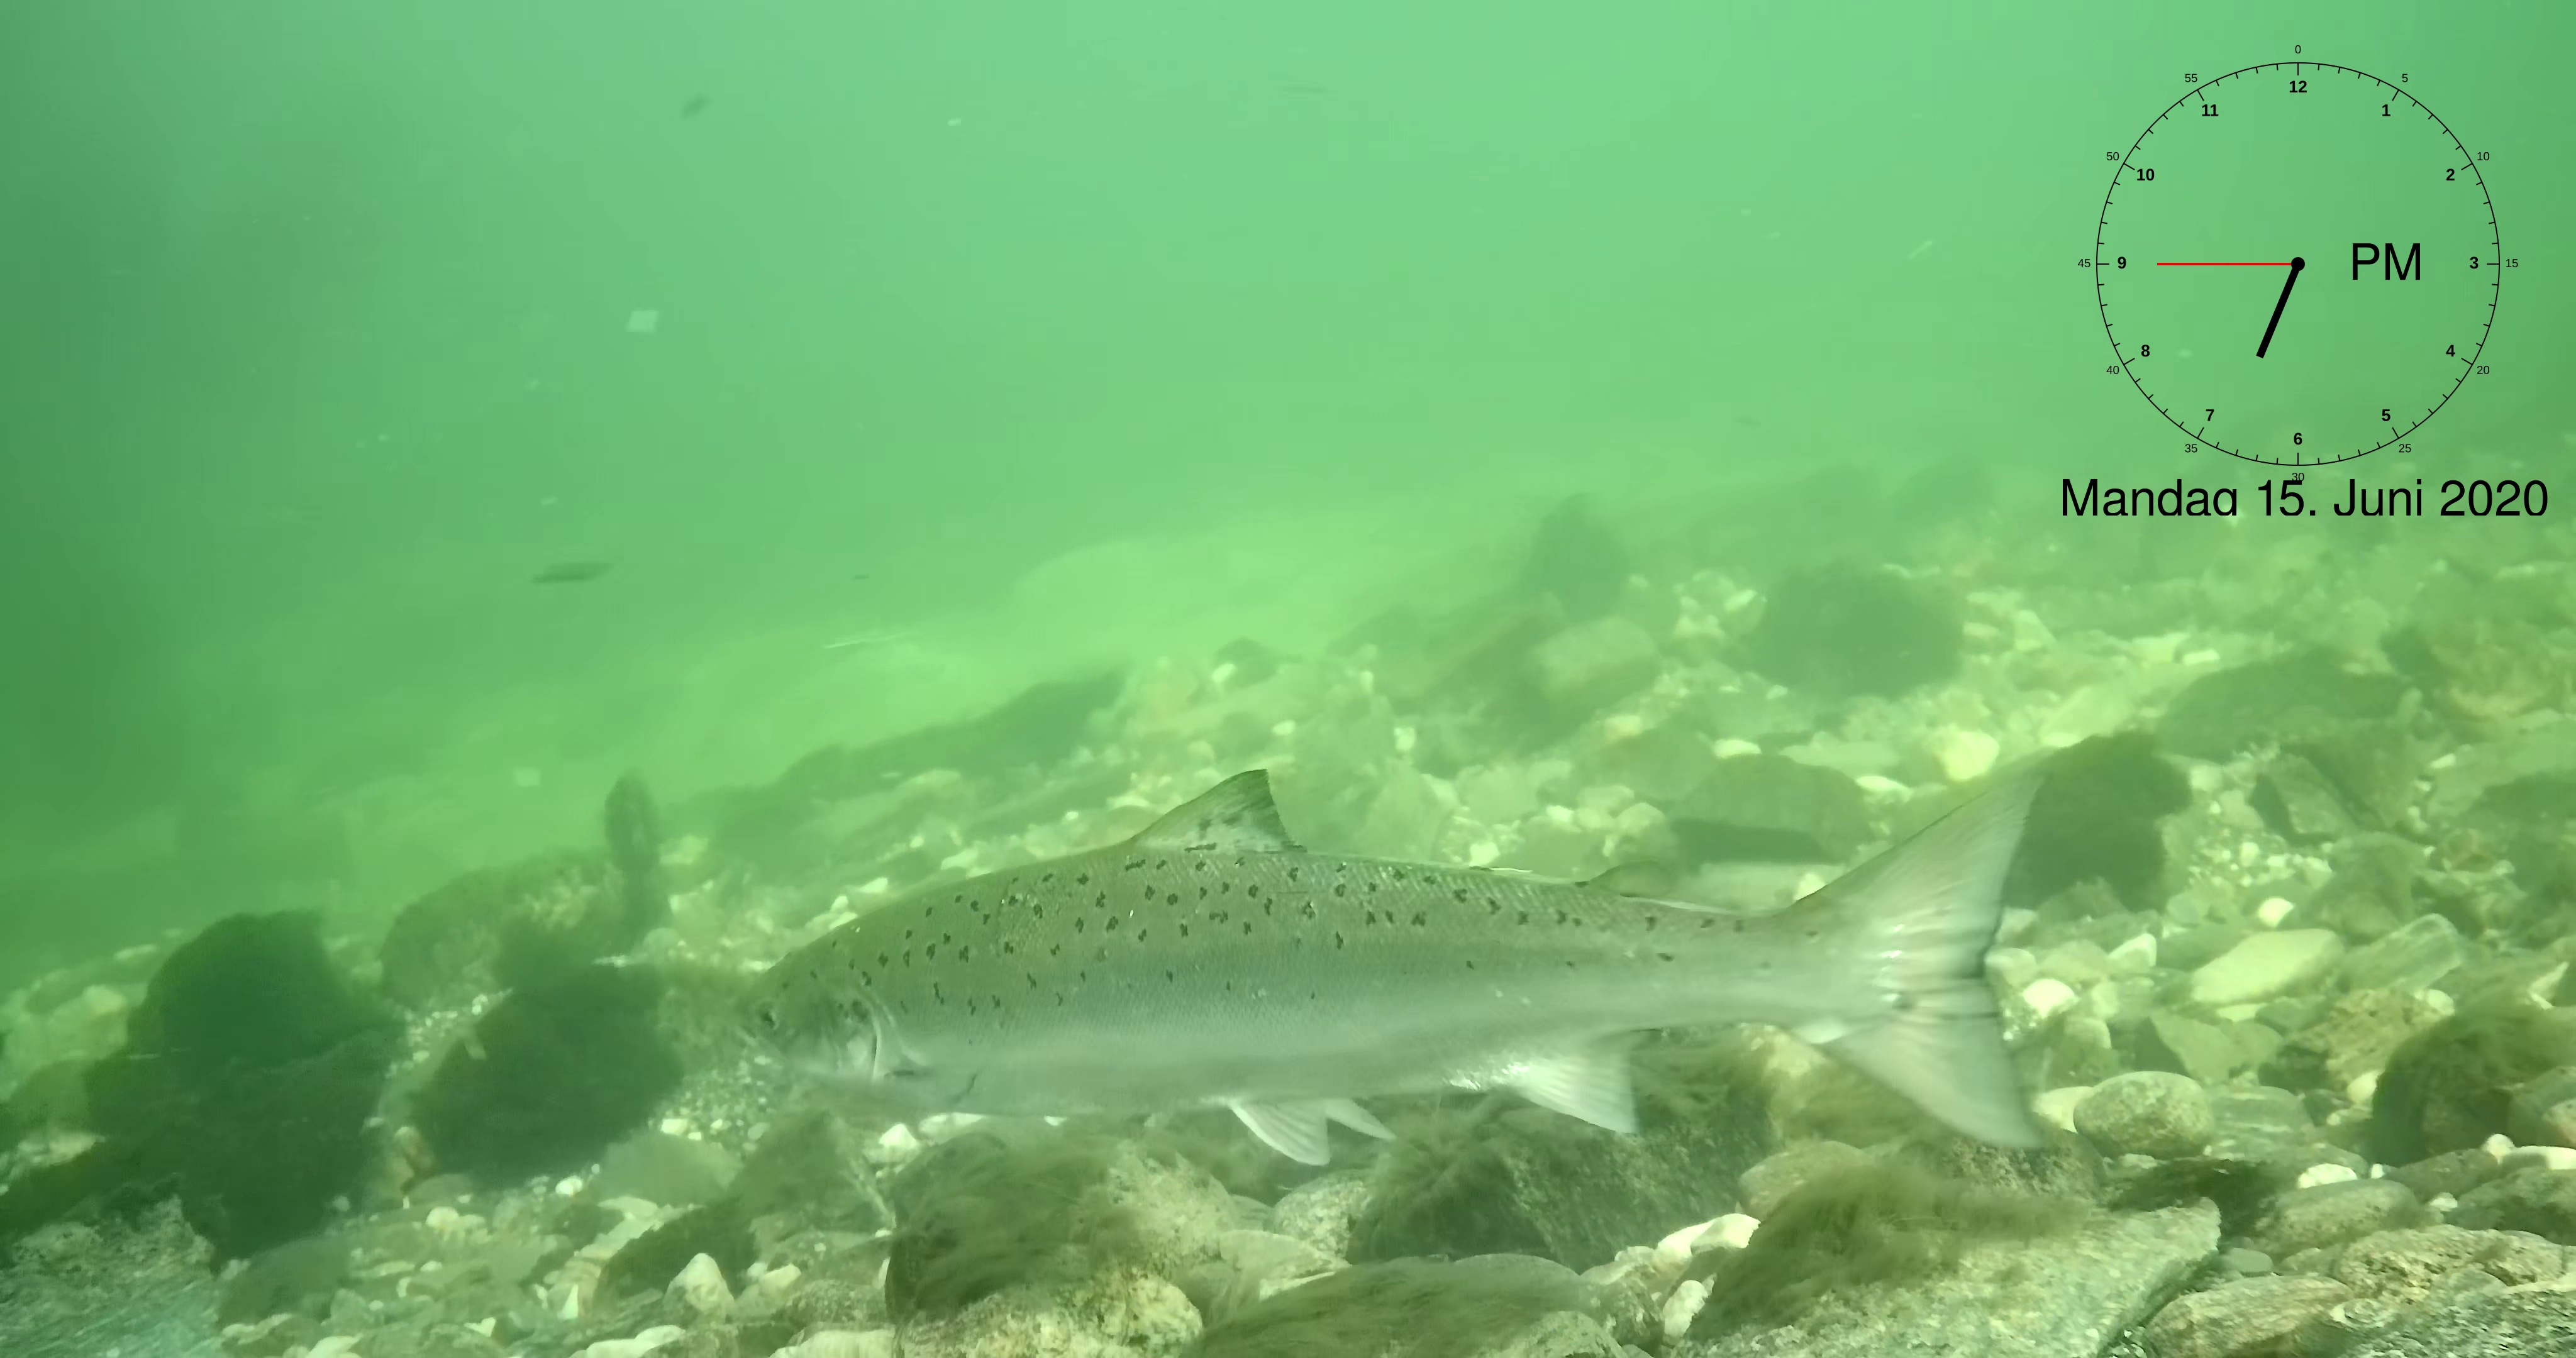salmon: (727, 768, 2056, 1169)
